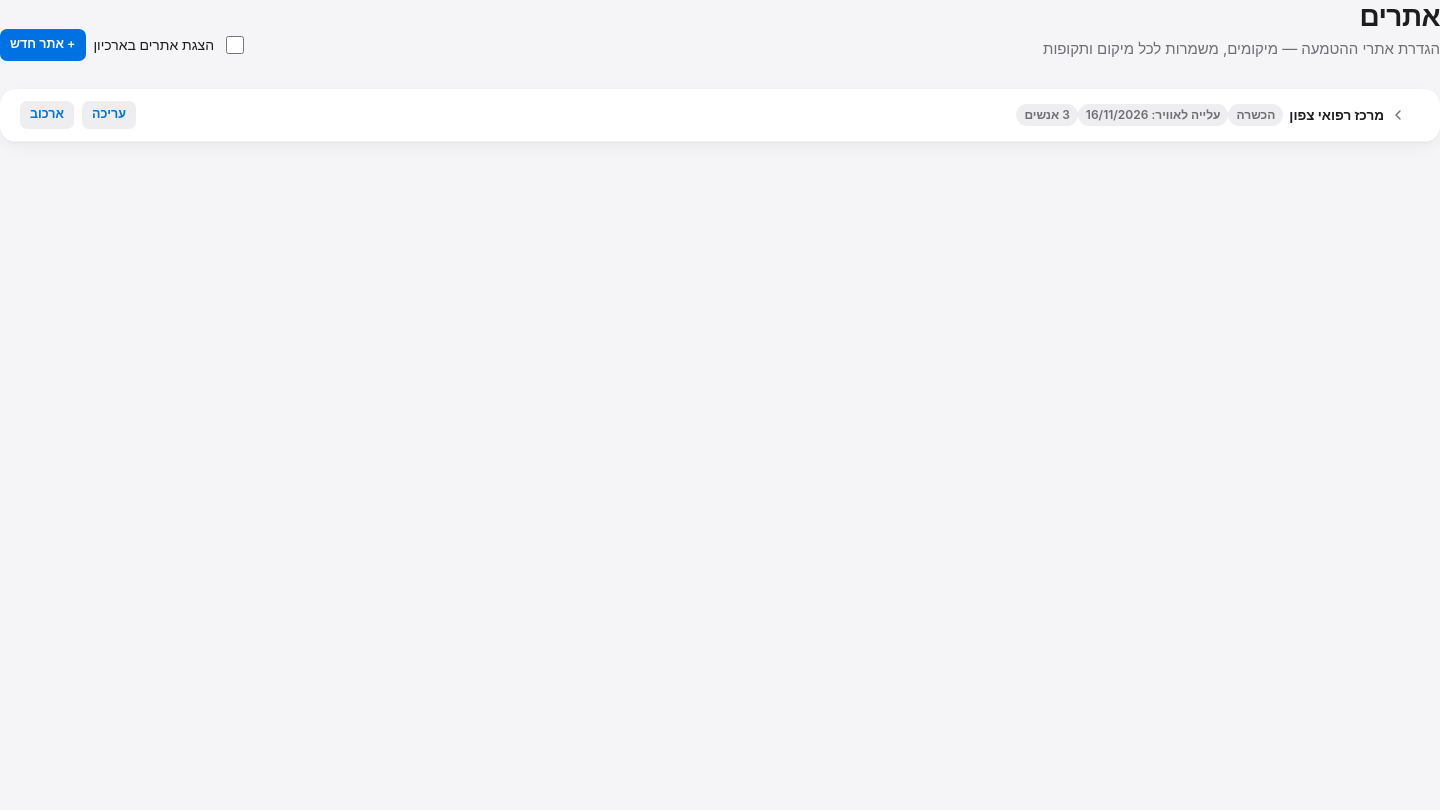
Test case: משמרות לפי מיקום ואישור בלחיצה › אתרים: המשמרות מוצגות תחת המיקום שלהן
Click the button "מרכז רפואי צפון הכשרה עלייה לאוויר: 16/11/2026 3 אנשים": point(1337, 115) [148,97,1420,133]
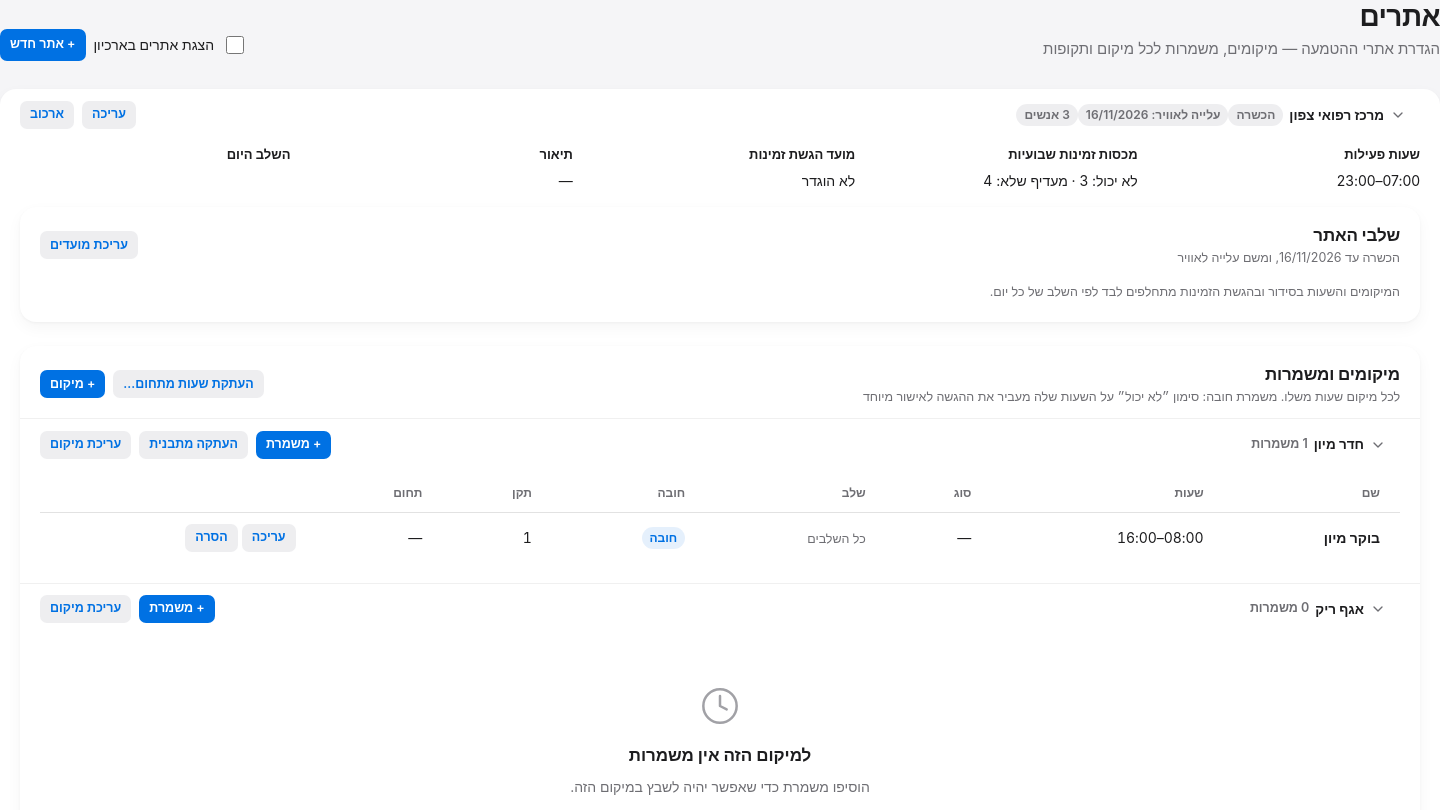
Expected: the text "בוקר מיון" is shown, [1224,512,1400,563]
Expected: the text "למיקום הזה אין משמרות" is shown, [629,743,811,768]
Expected: the button "העתקה מתבנית" is shown, [139,431,248,459]
